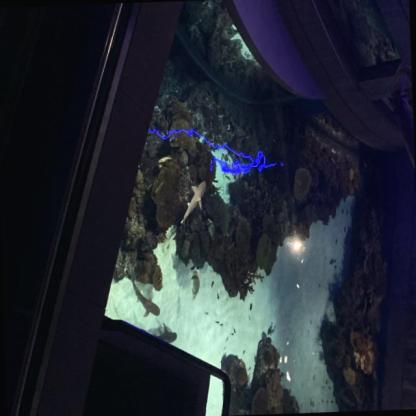fish: (191, 268, 200, 298)
shark: (178, 180, 209, 229), (131, 274, 160, 317), (153, 322, 177, 344)
